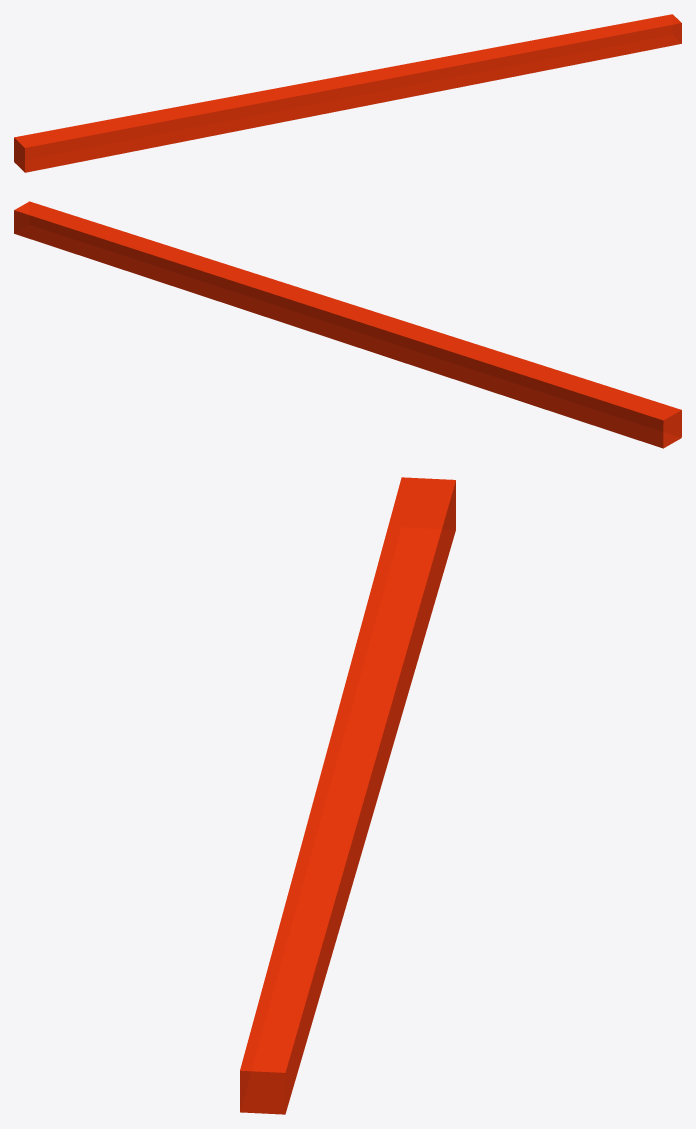
File: Event_421115418_EErechit_31.fbx
The picture shows the model from 3 angles, top to bottom: view 1: azimuth 30°, elevation 25°; view 2: azimuth 150°, elevation 25°; view 3: azimuth 270°, elevation 25°; orthographic projection. The views are drawn at different scales.
Parts seen in each view (by area): view 1: Model; view 2: Model; view 3: Model.
Boxes of the visible parts, x1,y1,x2,y2 form: Model: (14,14,681,172); Model: (14,201,681,448); Model: (240,477,455,1114).
Size of the model in its own units: 2.26 by 0.1013 by 0.3421.
